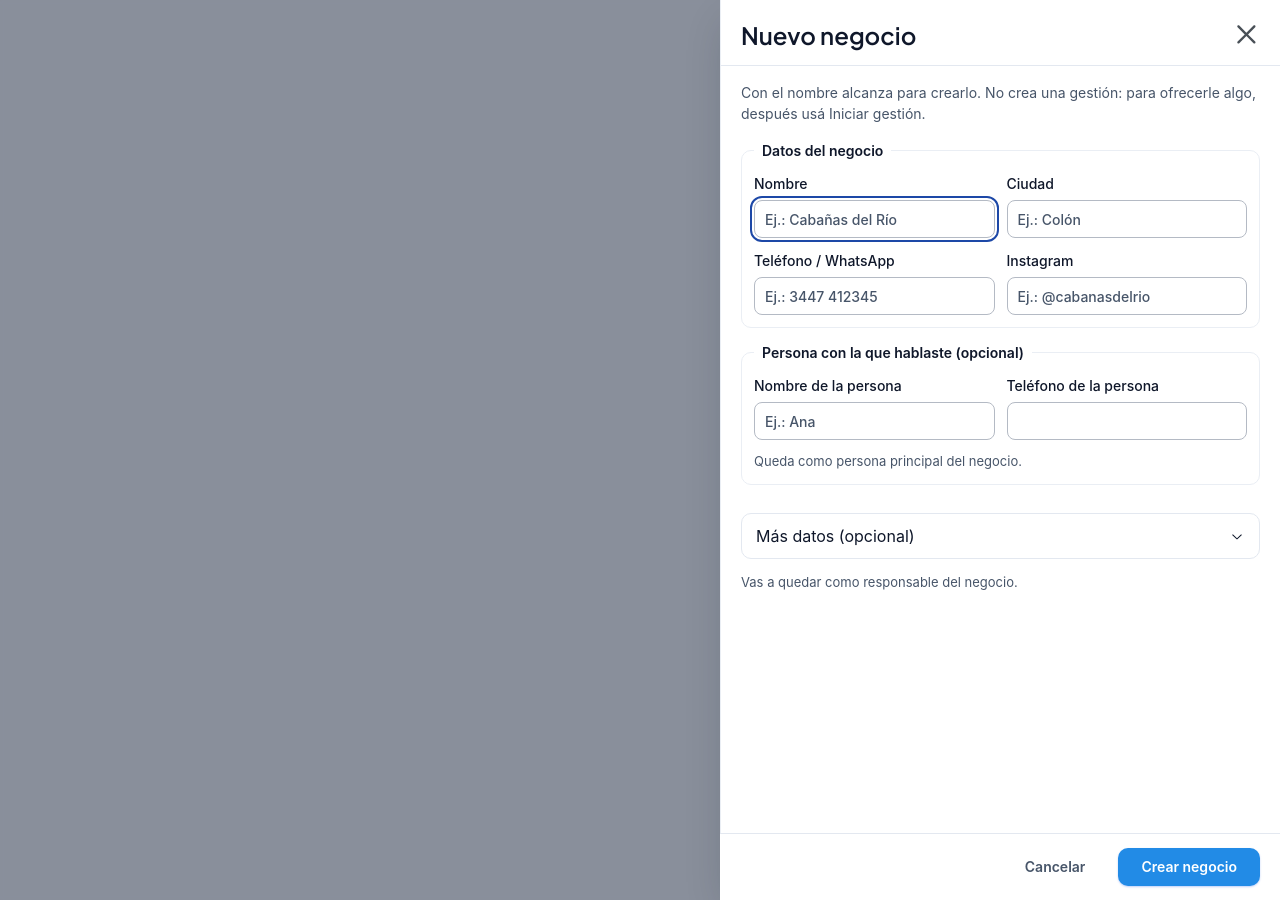
it: BusinessQuickCreate › warns without blocking on a non-blocking No contactar match
This screenshot has width=1280, height=900.
Type "3447 412345" into the field labelled "Teléfono / WhatsApp" at (874, 296), box [754,277,994,315]
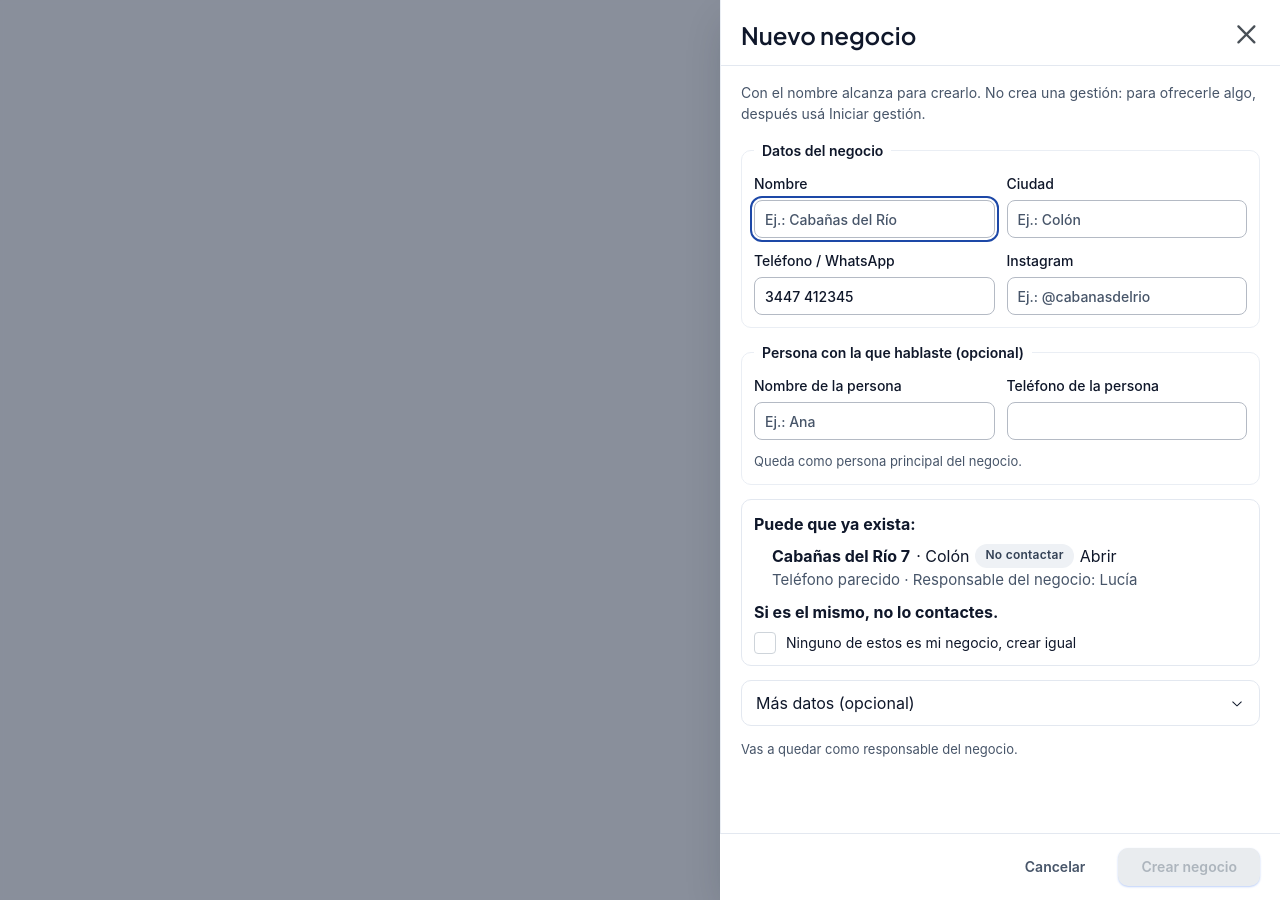
Expected: the text "Si es el mismo, no lo contactes." is shown, [754,602,998,622]
Click the checkbox labelled "Ninguno de estos es mi negocio, crear igual" at (765, 643), box [754,632,776,654]
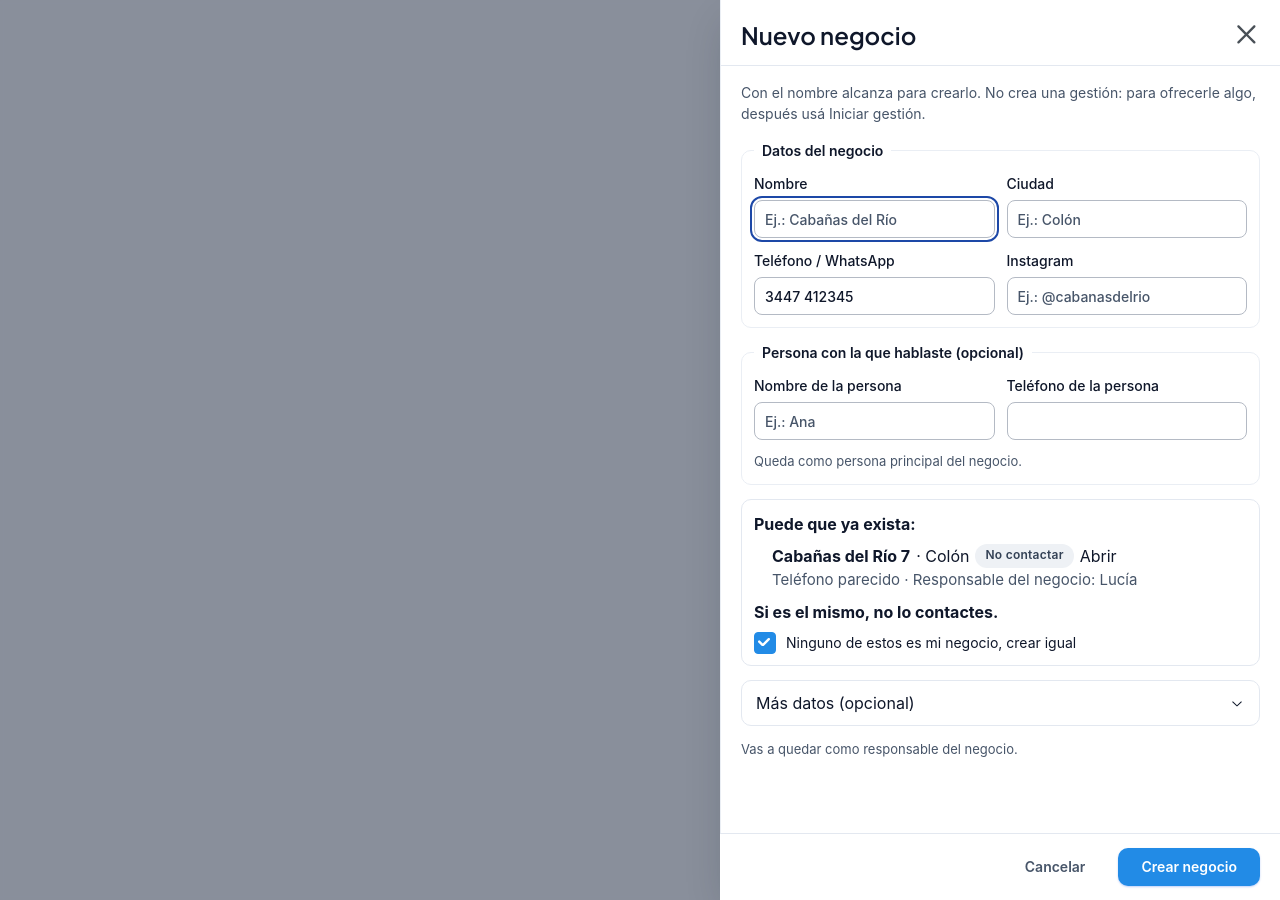
Expected: the button "Crear negocio" is enabled, [1118,848,1260,886]
